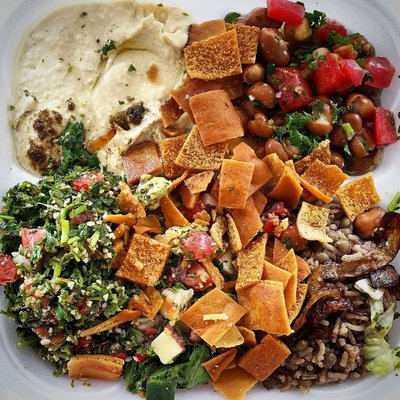curry: (124, 343, 212, 400), (133, 174, 171, 212)
